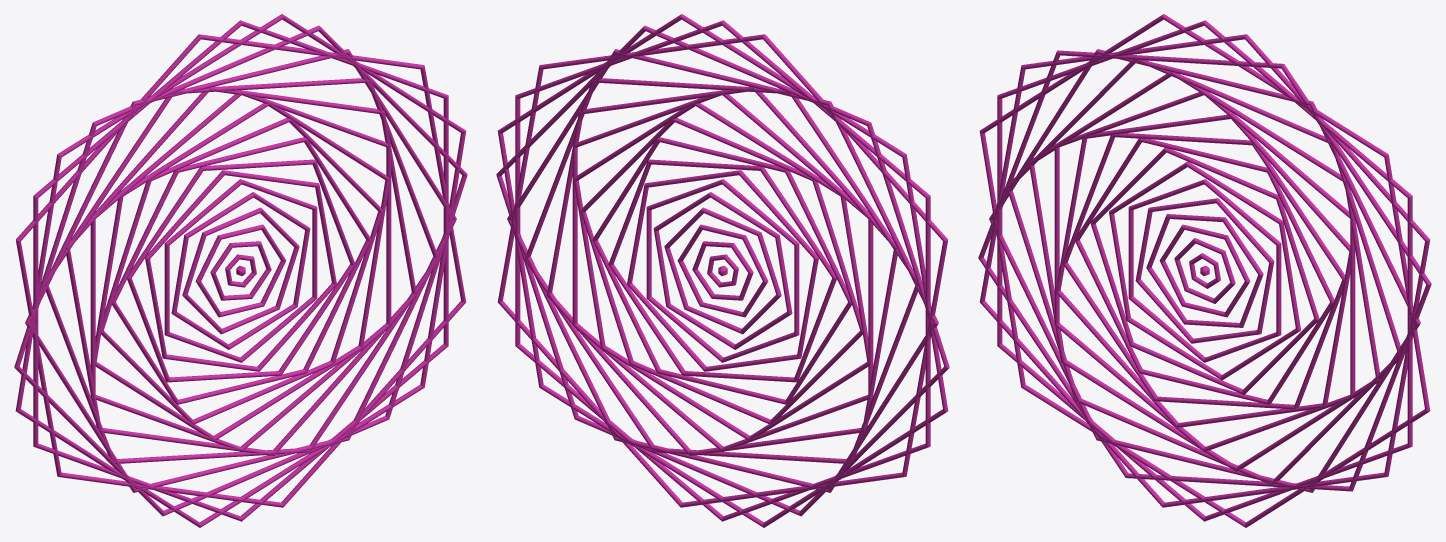
File: mandalaSide.glb
3 views of the same model, side by side, from view 1: azimuth 30°, elevation 25°; view 2: azimuth 150°, elevation 25°; view 3: azimuth 330°, elevation 25° (orthographic).
Parts seen in each view (by area): view 1: Mesh_Mesh_head_geo.001_lambert2SG.001; view 2: Mesh_Mesh_head_geo.001_lambert2SG.001; view 3: Mesh_Mesh_head_geo.001_lambert2SG.001.
Part boxes in pixels (x1,y1,x2,y2): Mesh_Mesh_head_geo.001_lambert2SG.001: (14,14,467,527); Mesh_Mesh_head_geo.001_lambert2SG.001: (496,14,949,527); Mesh_Mesh_head_geo.001_lambert2SG.001: (978,14,1431,527).
Size of the model in its own units: 191 by 202 by 3.8.
